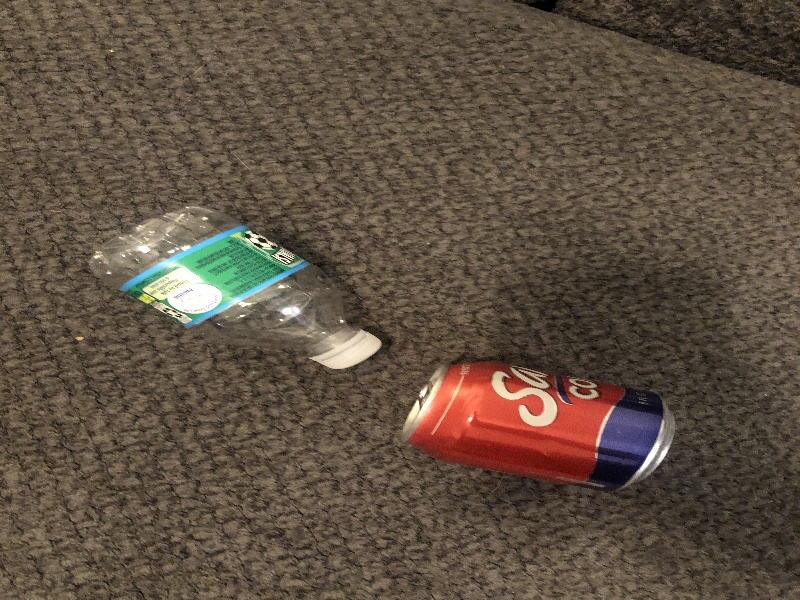metal: (399, 355, 680, 497)
plastic: (86, 206, 386, 378)
